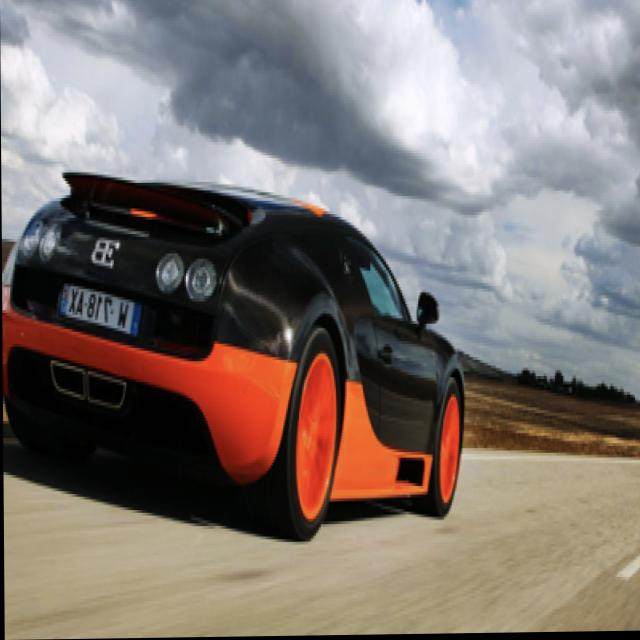licence: (60, 255, 138, 355)
